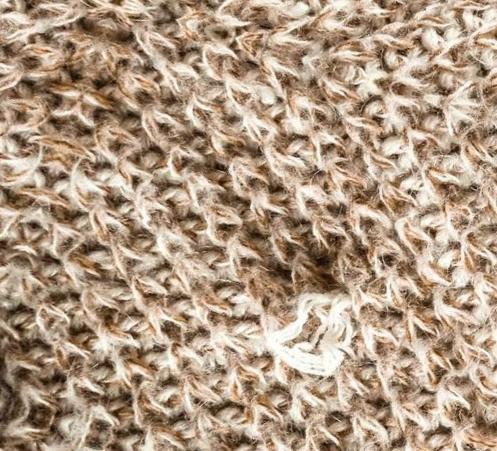snag: (252, 283, 369, 386)
